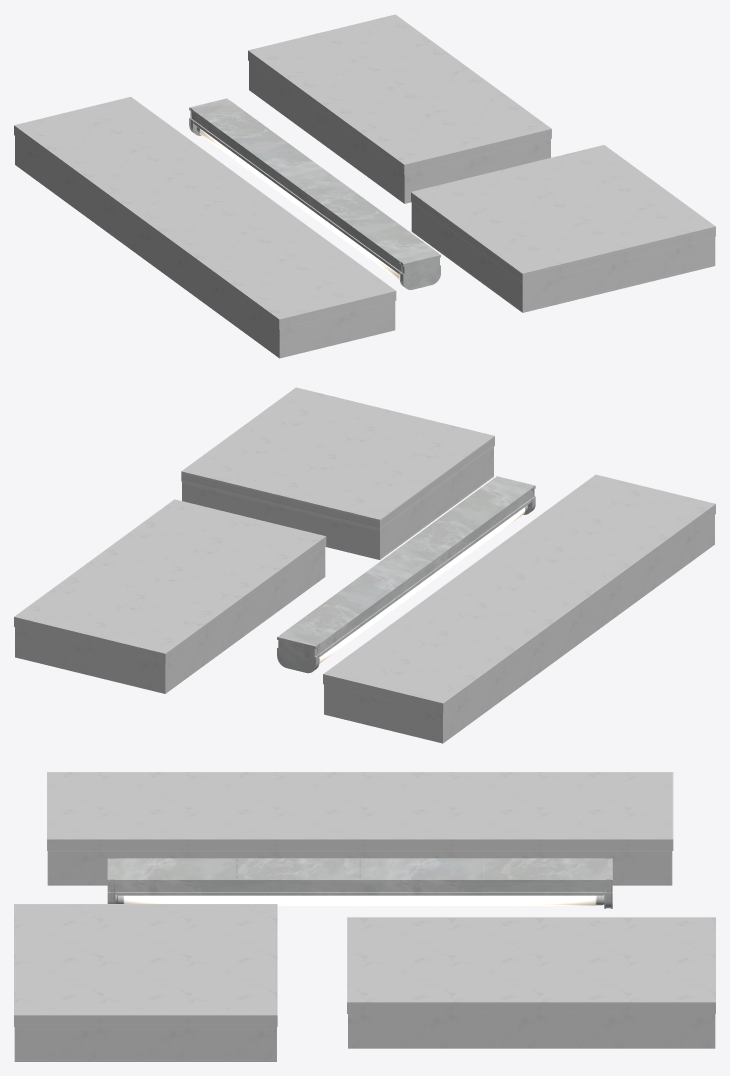
File: fluorescent_light_fixtures_-_4x_4096px2.glb
3 renders of one model, top to bottom at view 1: azimuth 30°, elevation 25°; view 2: azimuth 150°, elevation 25°; view 3: azimuth 270°, elevation 25°, orthographic. The views are drawn at different scales.
Visible parts, largest first — view 1: Fluorescent Lamp 02, Fluorescent Lamp 01, Fluorescent Lamp 03, Fluorescent Lamp 04; view 2: Fluorescent Lamp 02, Fluorescent Lamp 03, Fluorescent Lamp 01, Fluorescent Lamp 04; view 3: Fluorescent Lamp 02, Fluorescent Lamp 03, Fluorescent Lamp 01, Fluorescent Lamp 04.
Boxes of the visible parts, x1=… form: Fluorescent Lamp 02: x1=14, y1=96, x2=396, y2=358; Fluorescent Lamp 01: x1=411, y1=145, x2=715, y2=312; Fluorescent Lamp 03: x1=248, y1=14, x2=551, y2=203; Fluorescent Lamp 04: x1=189, y1=98, x2=440, y2=289; Fluorescent Lamp 02: x1=323, y1=474, x2=715, y2=743; Fluorescent Lamp 03: x1=14, y1=499, x2=326, y2=693; Fluorescent Lamp 01: x1=181, y1=387, x2=494, y2=559; Fluorescent Lamp 04: x1=277, y1=476, x2=535, y2=673; Fluorescent Lamp 02: x1=47, y1=772, x2=673, y2=885; Fluorescent Lamp 03: x1=347, y1=917, x2=715, y2=1048; Fluorescent Lamp 01: x1=14, y1=904, x2=277, y2=1061; Fluorescent Lamp 04: x1=107, y1=858, x2=612, y2=908.
Size of the model in its own units: 1.34 by 0.12 by 1.64.
Materials: 4 (4 with a texture image).
